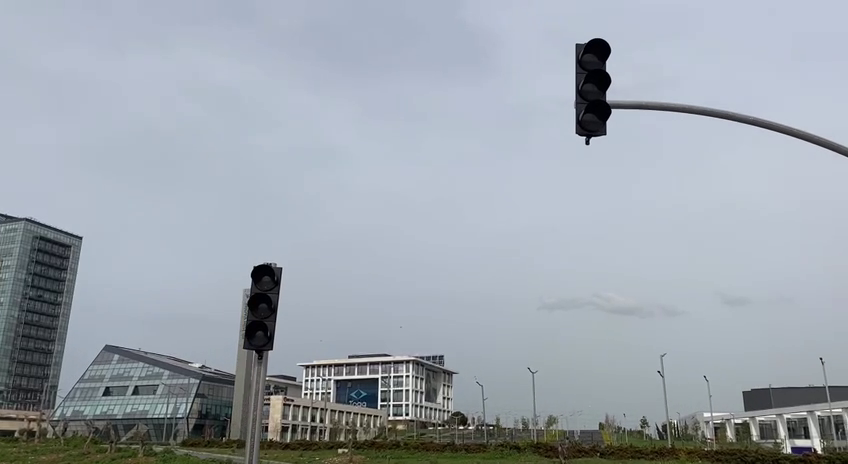trafficLight: (571, 33, 617, 149), (237, 258, 287, 356)
